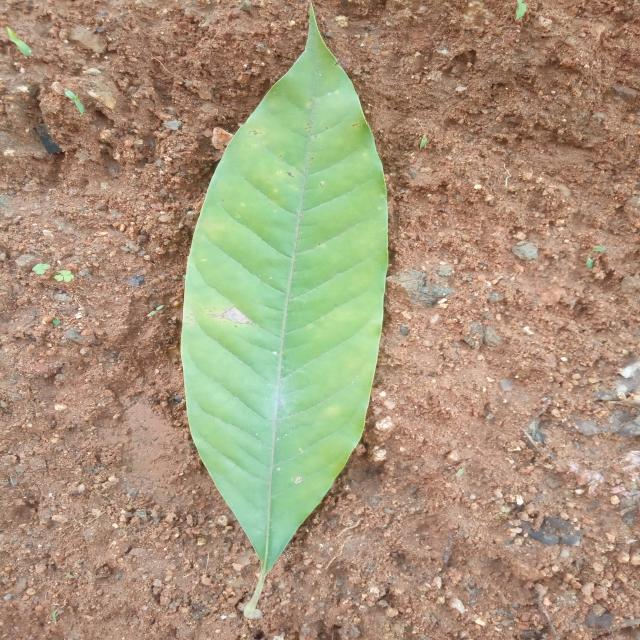coffee: (182, 6, 388, 570)
